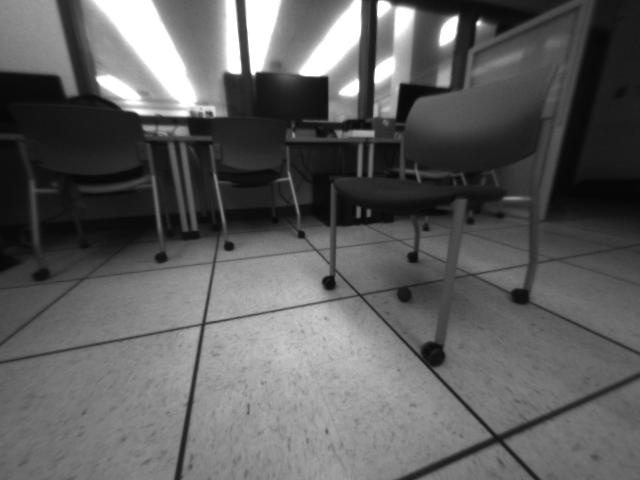dogtoy: (392, 281, 419, 309)
